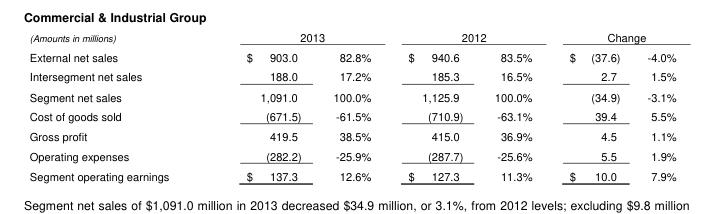table: (28, 29, 675, 182)
table column: (28, 29, 207, 182), (207, 29, 316, 182), (388, 29, 478, 182), (550, 29, 633, 182), (316, 29, 388, 182), (478, 29, 550, 182), (633, 29, 675, 182)
table column header: (28, 29, 675, 66)
table row: (28, 46, 675, 66), (28, 66, 675, 86), (28, 105, 675, 125), (28, 125, 675, 145), (28, 145, 675, 165), (28, 86, 675, 105), (28, 29, 675, 46), (28, 165, 675, 182)
table spanning cell: (28, 29, 207, 66), (207, 29, 388, 46), (388, 29, 550, 46), (550, 29, 675, 46)
